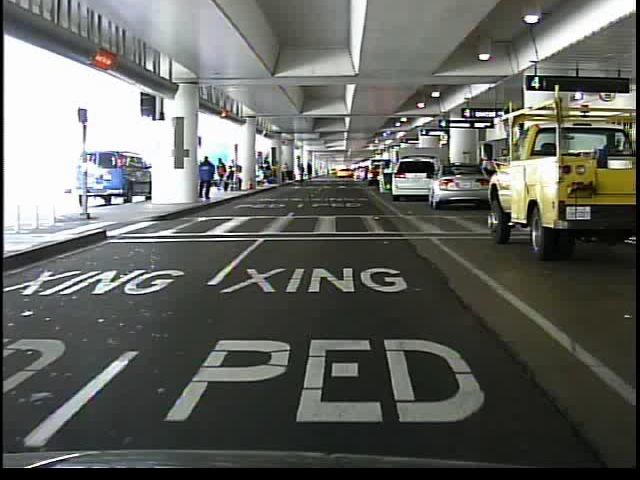person: (196, 153, 217, 203)
